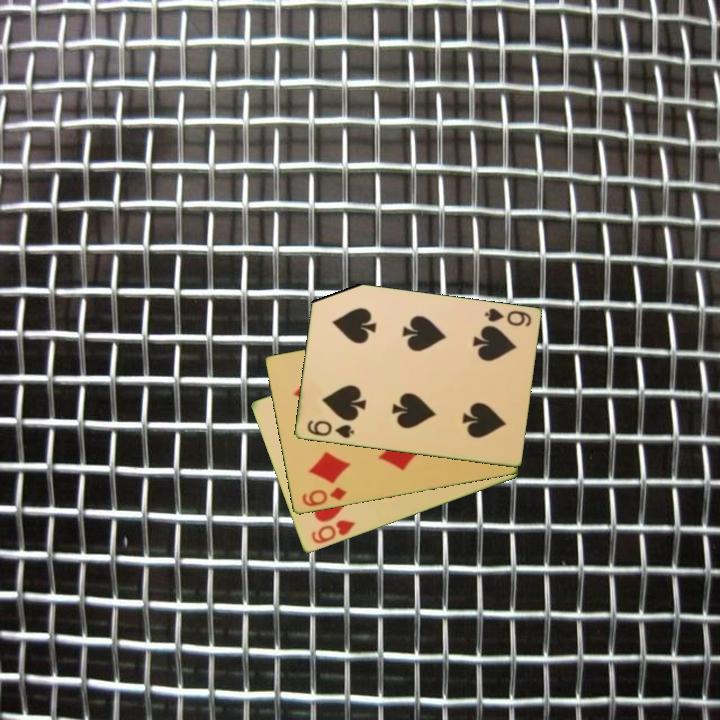6d: (298, 484, 350, 510)
6h: (307, 516, 358, 547)
6s: (481, 305, 534, 330), (303, 417, 357, 441)
